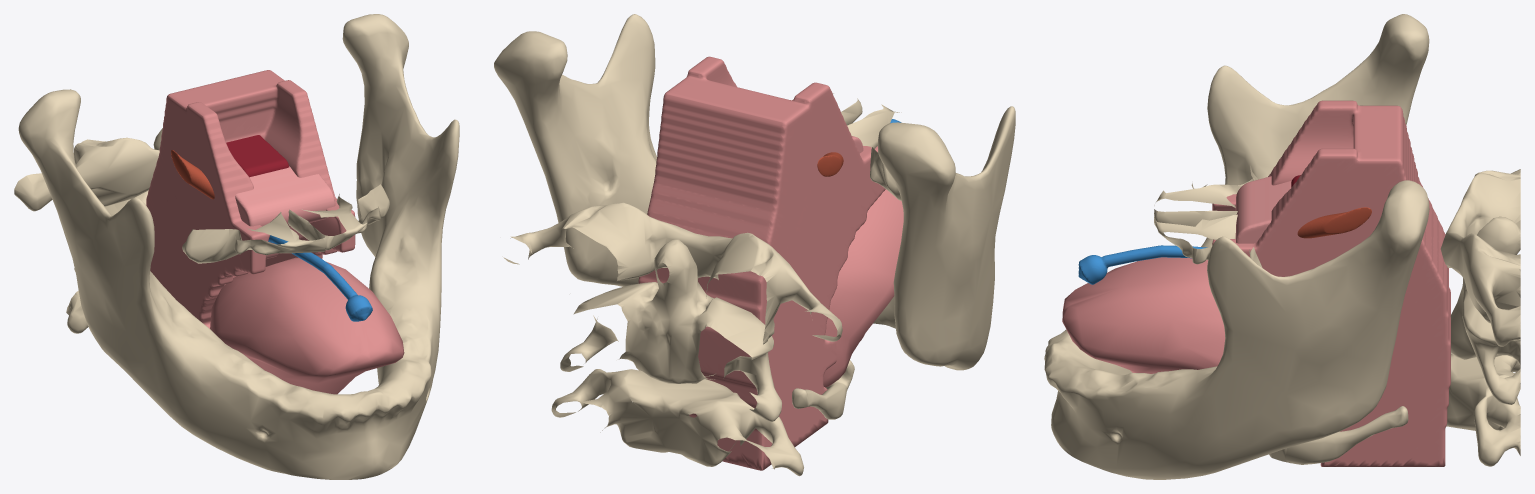
The model's file is flap-whole.glb.
3 renders of one model, left to right at view 1: azimuth 30°, elevation 25°; view 2: azimuth 150°, elevation 25°; view 3: azimuth 270°, elevation 25°, orthographic. The views are drawn at different scales.
Parts seen in each view (by area): view 1: bone (×5), mucosa, tongue, soft, flap, air, muscle; view 2: bone (×6), mucosa, tongue; view 3: bone (×7), mucosa, tongue, soft, air, muscle.
Boxes of the visible parts, x1,y1,x2,y2 form: bone (×5): (14, 14, 459, 479); mucosa: (146, 70, 355, 328); tongue: (210, 257, 404, 394); soft: (235, 166, 335, 258); flap: (226, 135, 288, 177); air: (268, 235, 372, 321); muscle: (171, 150, 214, 199); bone (×6): (494, 14, 1015, 476); mucosa: (638, 56, 885, 470); tongue: (823, 189, 903, 387); bone (×7): (1044, 14, 1520, 479); mucosa: (1212, 100, 1450, 466); tongue: (1062, 257, 1225, 373); soft: (1235, 176, 1291, 243); air: (1078, 245, 1207, 284); muscle: (1297, 207, 1371, 238).
Size of the model in its own units: 106 by 81.1 by 104.
